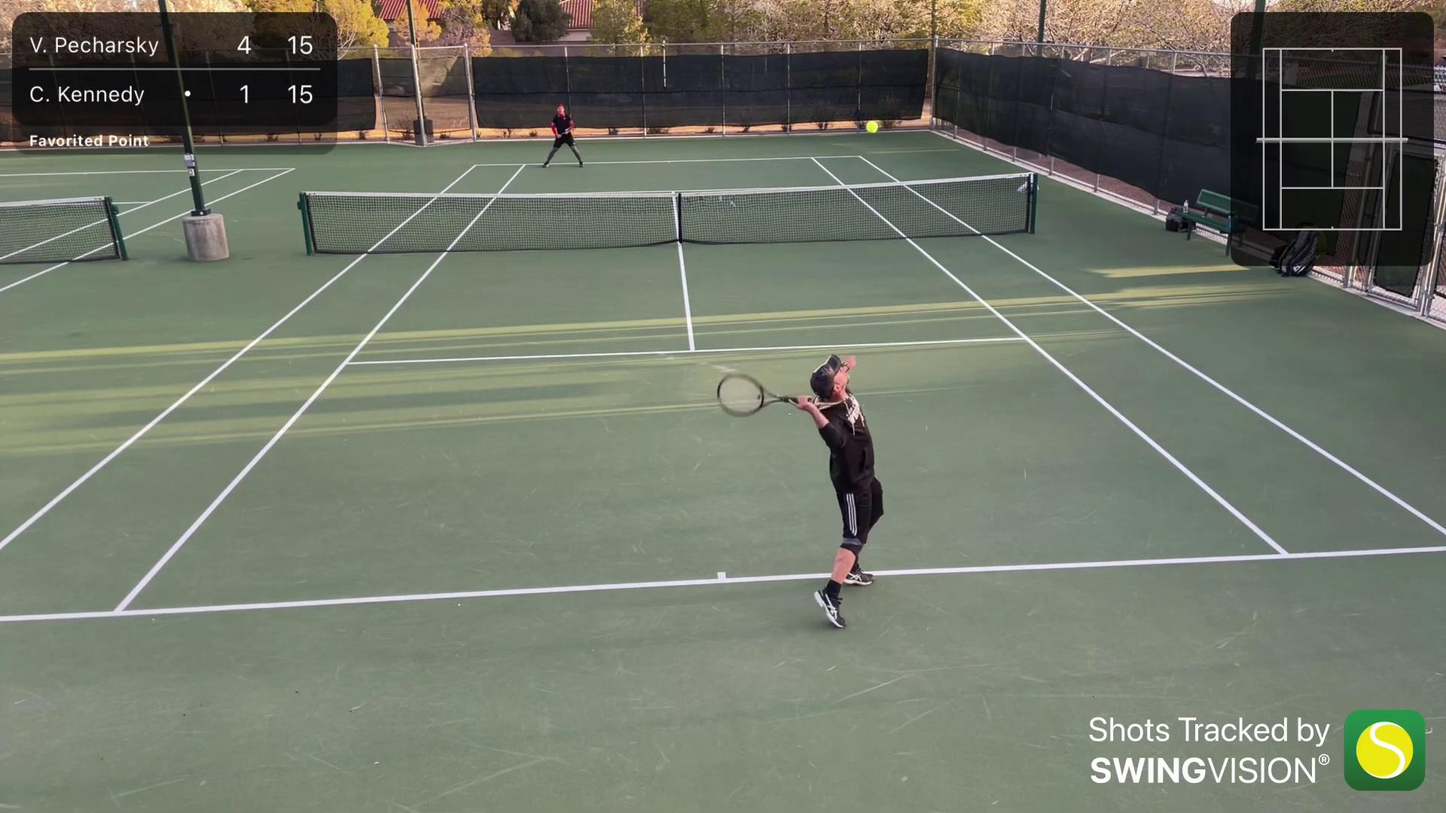ball: (865, 119, 879, 134)
